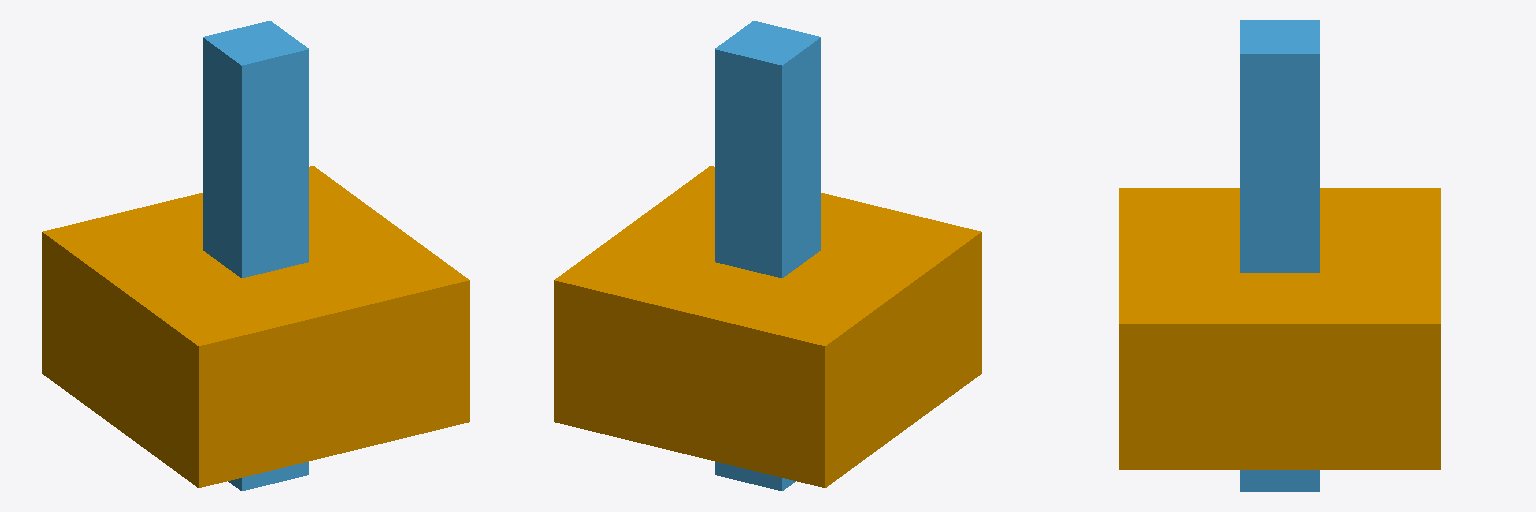
robot.urdf — simple_arm:
<?xml version="1.0"?>
<robot name="simple_arm">
  <link name="base_link">
    <visual>
      <geometry>
        <box size="0.2 0.2 0.1"/>
      </geometry>
    </visual>
  </link>

  <link name="link1">
    <visual>
      <geometry>
        <box size="0.05 0.05 0.3"/>
      </geometry>
    </visual>
  </link>

  <joint name="joint1" type="revolute">
    <parent link="base_link"/>
    <child link="link1"/>
    <origin xyz="0 0 0.05" rpy="0 0 0"/>
    <axis xyz="0 0 1"/>
    <limit lower="-3.14" upper="3.14" effort="10" velocity="1"/>
  </joint>
</robot>

--- Render facts (derived) ---
Views: 3 orthographic renders of the robot side by side, from view 1: azimuth 30°, elevation 25°; view 2: azimuth 150°, elevation 25°; view 3: azimuth 270°, elevation 25°.
Model simple_arm with 2 links and 1 joints (1 revolute), rooted at base_link, posed all joints at 0.
Visible links, largest first — view 1: base_link, link1; view 2: base_link, link1; view 3: base_link, link1.
Link boxes in pixels (x1=…): base_link: x1=42, y1=166, x2=469, y2=487; link1: x1=203, y1=21, x2=308, y2=490; base_link: x1=554, y1=166, x2=981, y2=487; link1: x1=715, y1=21, x2=820, y2=490; base_link: x1=1119, y1=188, x2=1440, y2=469; link1: x1=1240, y1=20, x2=1319, y2=491.
Bounding box of the posed robot: 0.2 × 0.2 × 0.3 m (x, y, z).
Geometry: primitives only (box / cylinder / sphere), no mesh files.
